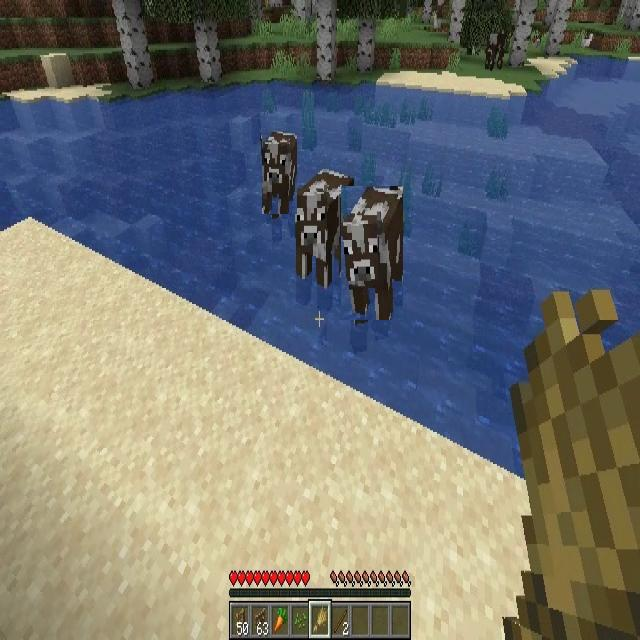cow: (341, 186, 403, 320), (294, 171, 355, 278), (262, 132, 297, 214), (486, 28, 510, 68)
